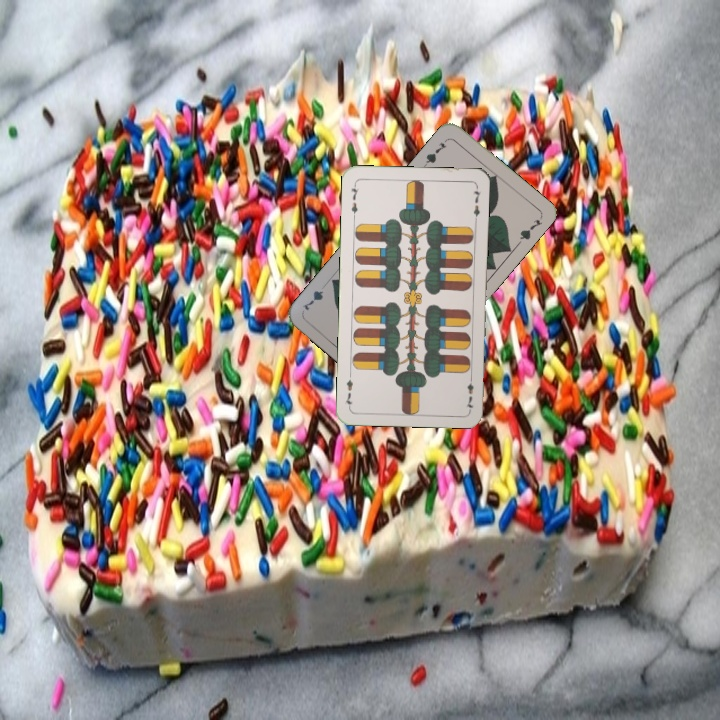E7: (347, 180, 361, 221), (462, 371, 476, 412)
G7: (420, 135, 450, 169)
